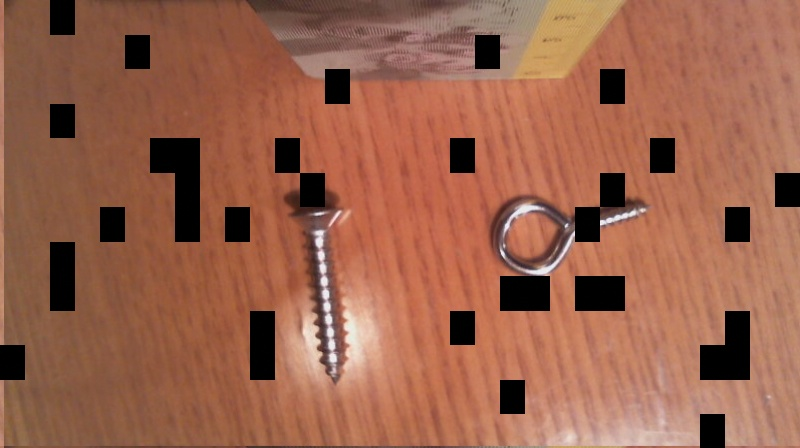O001: (486, 189, 659, 281)
S001: (281, 192, 354, 385)
